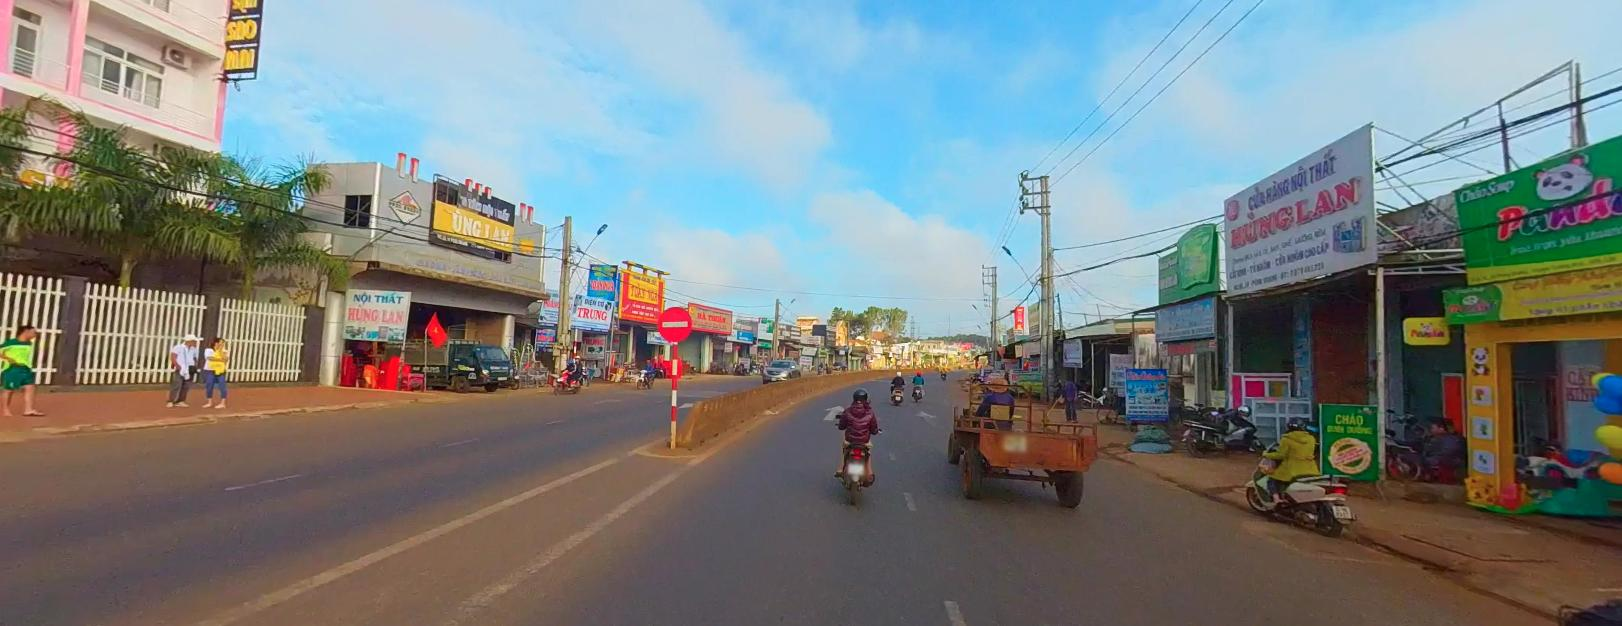Cam nguoc chieu: (656, 303, 693, 344)
